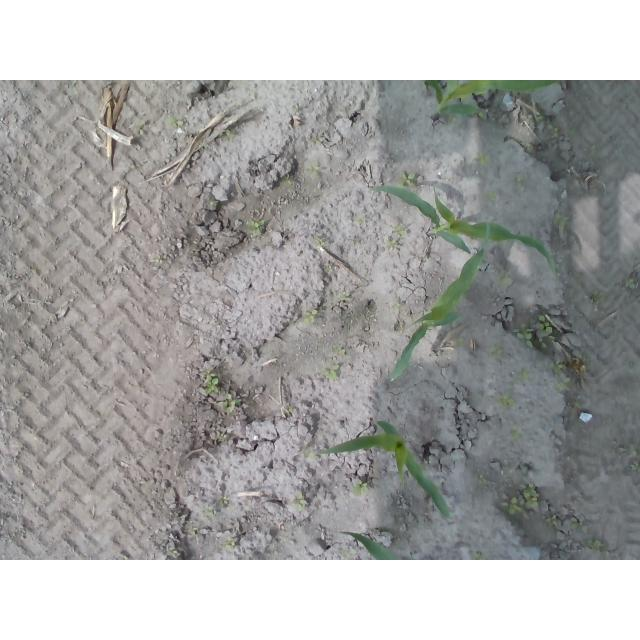Maize: (369, 185, 560, 275), (315, 418, 454, 520), (388, 247, 487, 388), (422, 81, 556, 124), (337, 528, 401, 560)
Weeds: (500, 480, 541, 520), (512, 314, 553, 350), (548, 359, 572, 393), (386, 225, 407, 253), (200, 366, 221, 394), (494, 392, 518, 416), (220, 392, 242, 416), (550, 126, 578, 138), (495, 271, 513, 289), (290, 494, 307, 512), (488, 345, 505, 363), (591, 287, 607, 306), (352, 479, 369, 496), (322, 364, 339, 381), (246, 217, 262, 235), (584, 538, 608, 550), (165, 117, 185, 130), (510, 424, 526, 440), (400, 171, 417, 186), (337, 548, 357, 560), (224, 533, 237, 550), (552, 212, 569, 225), (302, 309, 316, 324), (473, 151, 487, 166), (515, 174, 527, 191), (132, 120, 144, 136), (569, 516, 583, 529), (478, 473, 490, 488), (517, 370, 530, 383), (546, 514, 559, 526), (305, 164, 319, 175), (575, 400, 593, 408), (624, 279, 637, 290), (338, 290, 350, 301), (281, 175, 291, 186), (487, 191, 498, 201), (453, 337, 463, 348), (167, 548, 179, 557), (535, 112, 544, 124), (473, 553, 488, 560), (314, 239, 327, 247), (335, 344, 346, 353), (218, 495, 227, 506), (629, 464, 640, 473), (223, 130, 233, 139)
